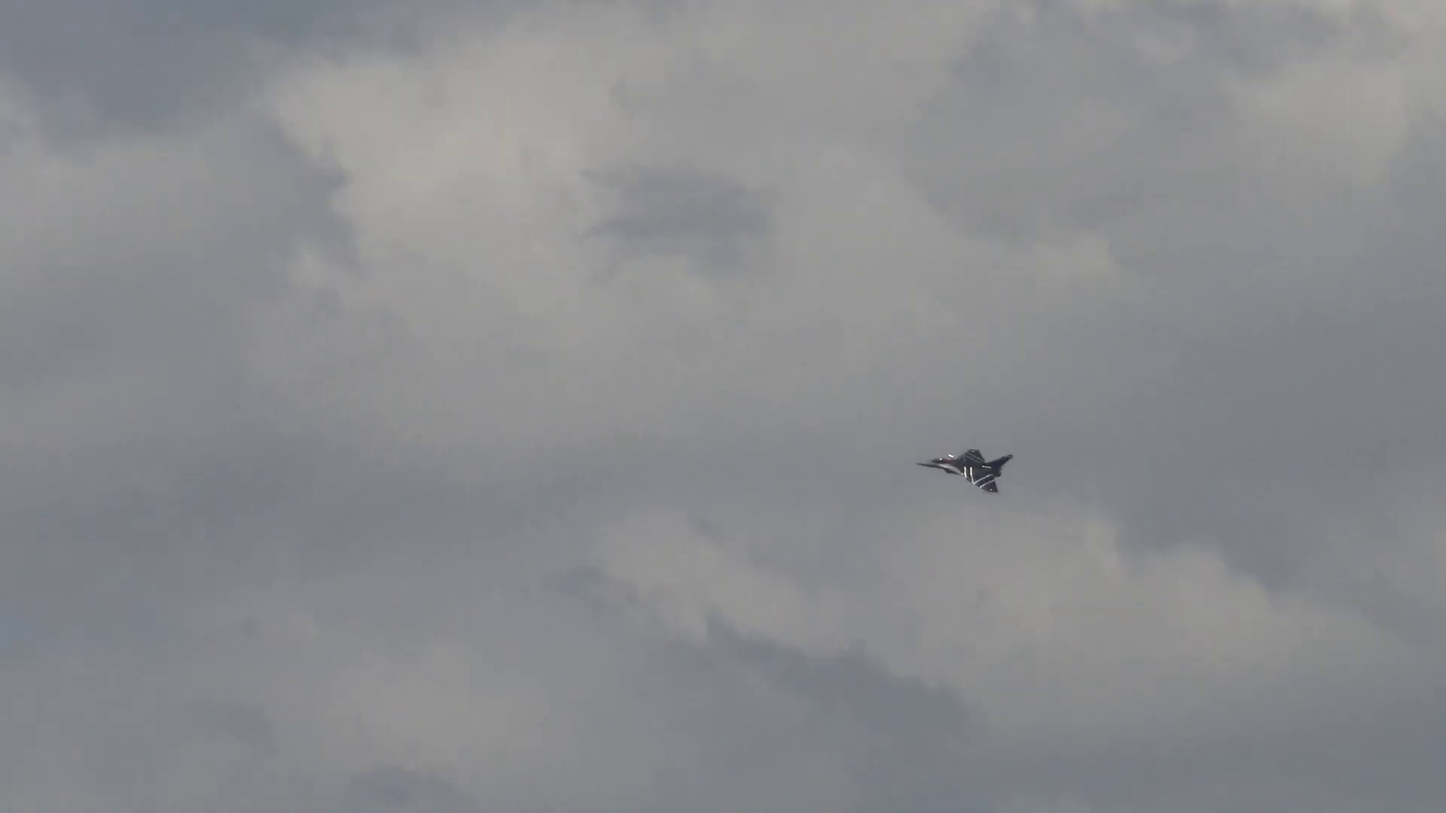Rafale: (920, 447, 1018, 493)
